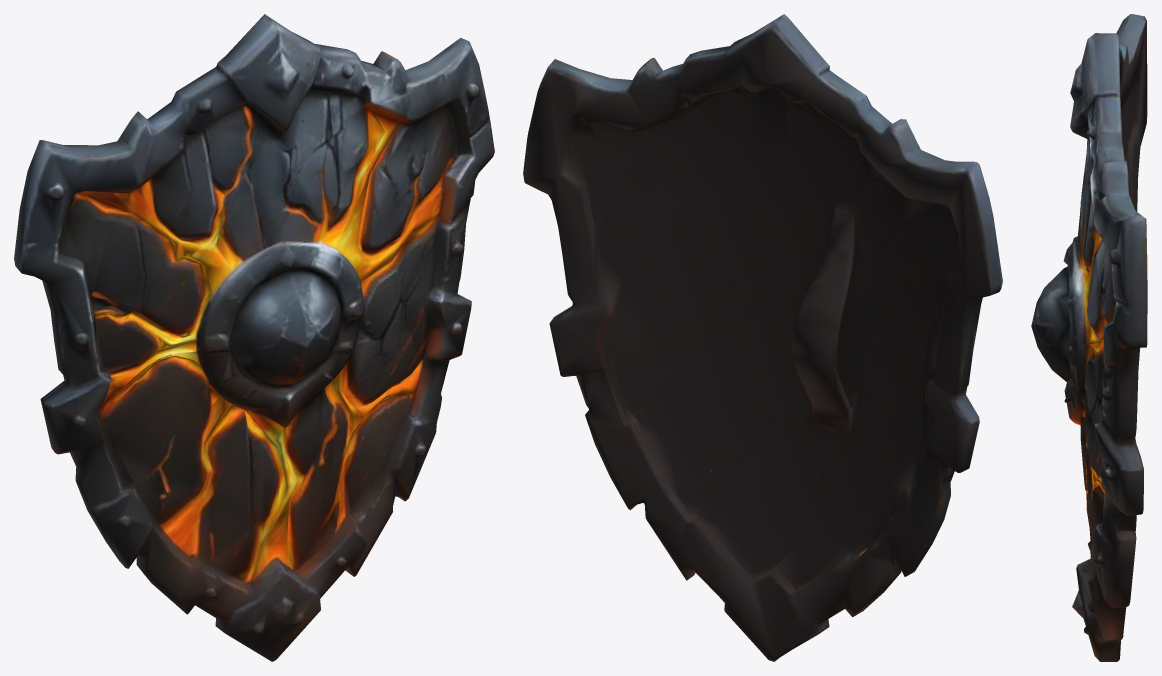
File: BOUCLIER.glb
3 renders of one model, left to right at view 1: azimuth 30°, elevation 25°; view 2: azimuth 150°, elevation 25°; view 3: azimuth 270°, elevation 25°, orthographic. The views are drawn at different scales.
Visible parts, largest first — view 1: node_0; view 2: node_0; view 3: node_0.
Boxes of the visible parts, <box> form: node_0: <box>14,14,494,661</box>; node_0: <box>523,14,1002,661</box>; node_0: <box>1031,14,1147,661</box>.
Bounding box in the file's own units: 0.9121 × 1.18 × 0.1979.
1 material, 1 textured.
